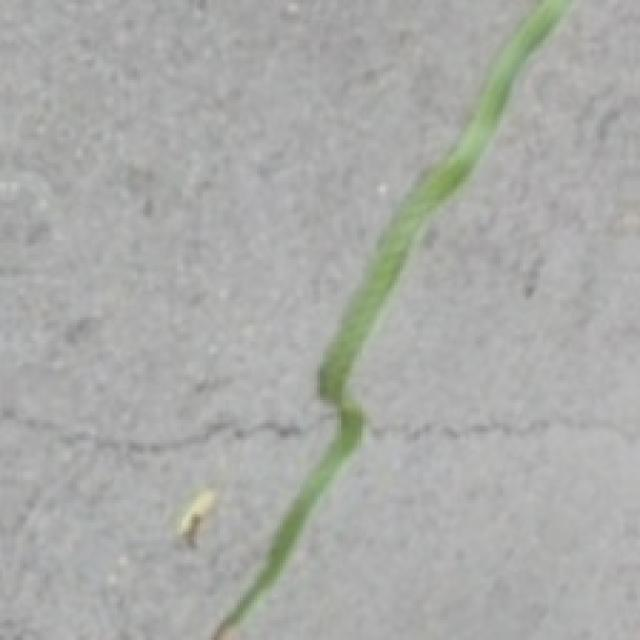red-tailed green ratsnake: (211, 0, 569, 637)
